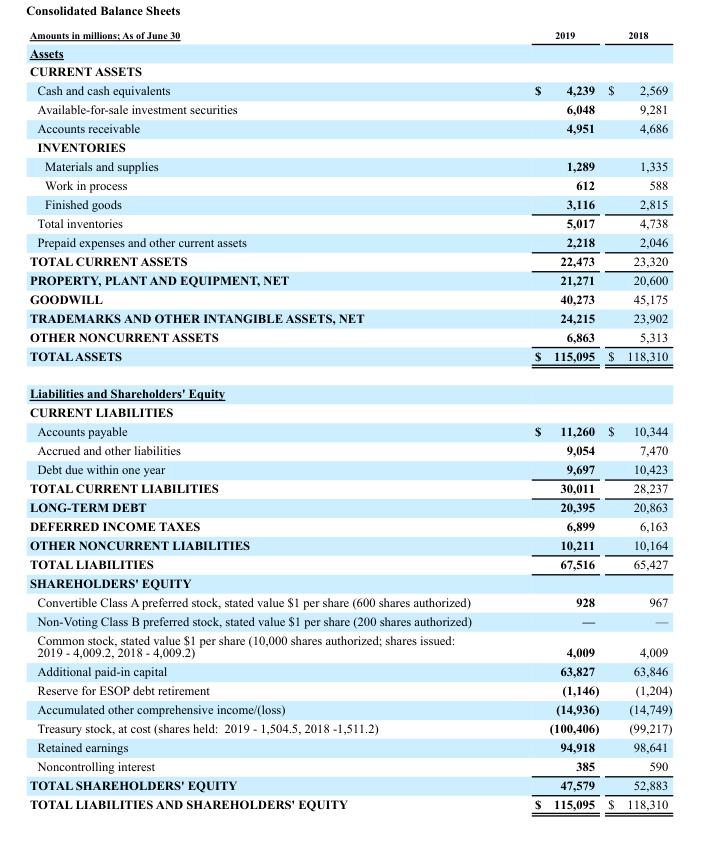table: (28, 29, 671, 810)
table column: (28, 29, 502, 810), (502, 29, 602, 810), (602, 29, 671, 810)
table column header: (28, 29, 671, 42)
table projected row header: (28, 374, 671, 402), (28, 42, 671, 61), (28, 61, 671, 80), (28, 137, 671, 156), (28, 402, 671, 421), (28, 573, 671, 592)
table row: (28, 629, 671, 661), (28, 345, 671, 374), (28, 374, 671, 402), (28, 42, 671, 61), (28, 61, 671, 80), (28, 80, 671, 99), (28, 99, 671, 118), (28, 118, 671, 137), (28, 137, 671, 156), (28, 156, 671, 175), (28, 175, 671, 194), (28, 194, 671, 213), (28, 213, 671, 232), (28, 232, 671, 251), (28, 251, 671, 270), (28, 270, 671, 289), (28, 307, 671, 326), (28, 326, 671, 345), (28, 402, 671, 421), (28, 421, 671, 440), (28, 440, 671, 459), (28, 459, 671, 478), (28, 478, 671, 497), (28, 497, 671, 516), (28, 516, 671, 535), (28, 535, 671, 554), (28, 554, 671, 573), (28, 573, 671, 592), (28, 610, 671, 629), (28, 661, 671, 680), (28, 680, 671, 699), (28, 699, 671, 718), (28, 718, 671, 737), (28, 737, 671, 756), (28, 756, 671, 775), (28, 775, 671, 794), (28, 289, 671, 307), (28, 592, 671, 610), (28, 794, 671, 810), (28, 29, 671, 42)
